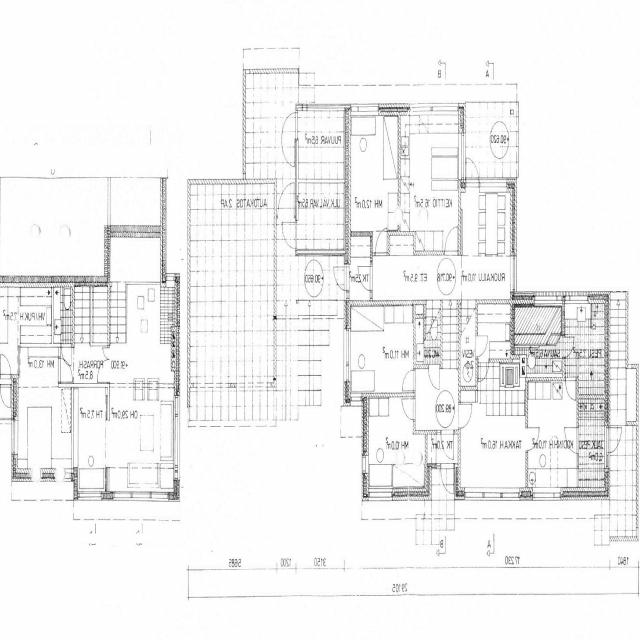door: (278, 183, 294, 219), (466, 153, 479, 192), (604, 427, 622, 452), (332, 267, 351, 290), (282, 111, 298, 138), (563, 427, 579, 453), (441, 429, 454, 458), (445, 227, 458, 256), (441, 463, 453, 493), (283, 222, 298, 246), (358, 266, 373, 290), (458, 405, 473, 428), (402, 398, 416, 420), (526, 428, 540, 450), (96, 360, 110, 382), (58, 359, 72, 381), (428, 364, 439, 391), (1, 374, 10, 407), (1, 354, 10, 387), (562, 337, 576, 358), (376, 230, 387, 256), (403, 370, 416, 390), (476, 336, 488, 356), (566, 376, 576, 400), (478, 358, 488, 382), (62, 343, 71, 365), (102, 348, 110, 358)
